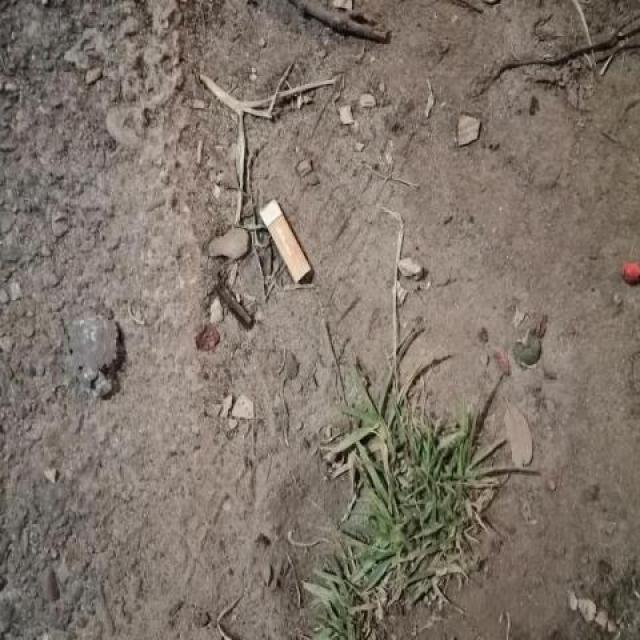non-organic waste: (254, 196, 315, 289)
